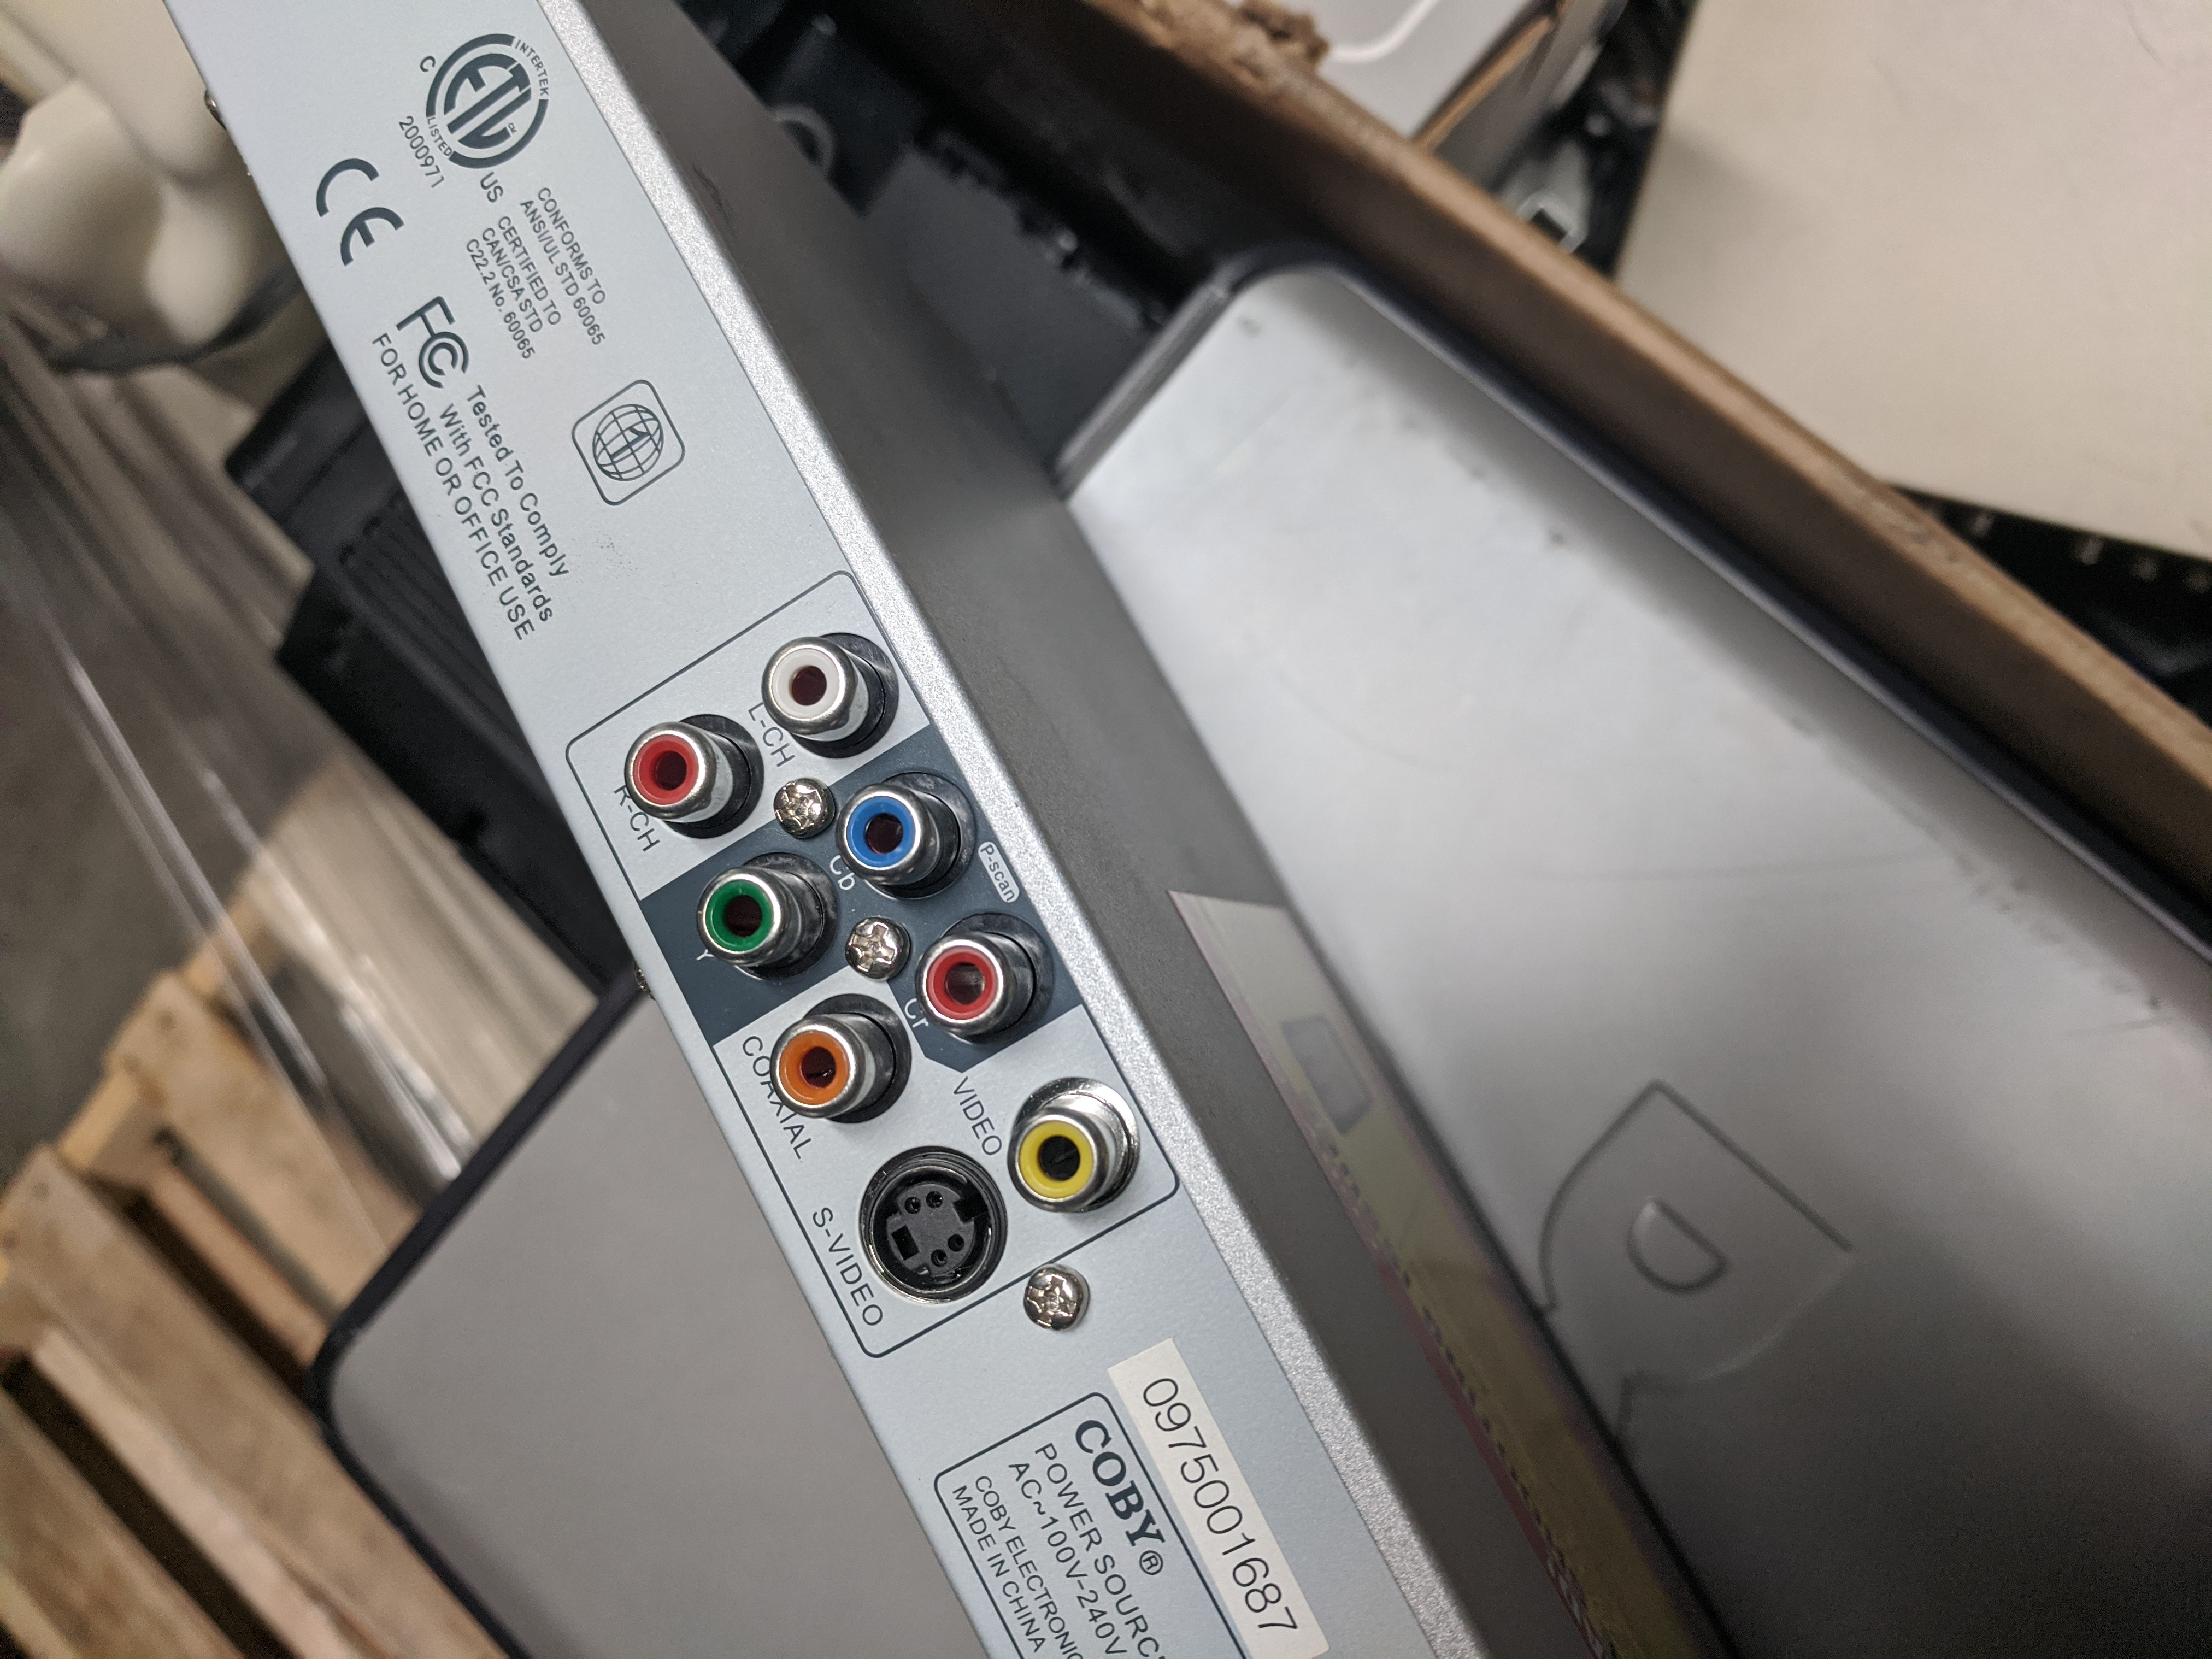cross_recessed_screw: (1007, 1251, 1101, 1345), (822, 899, 913, 971), (770, 767, 833, 833)
